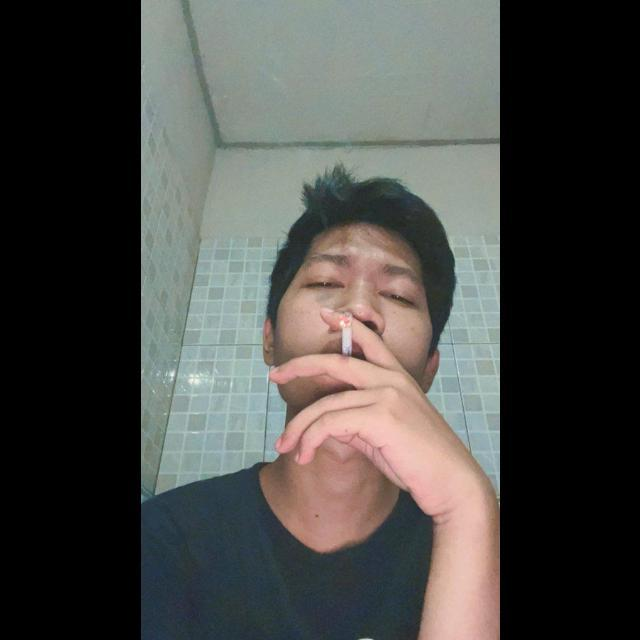rokok: (337, 312, 359, 360)
